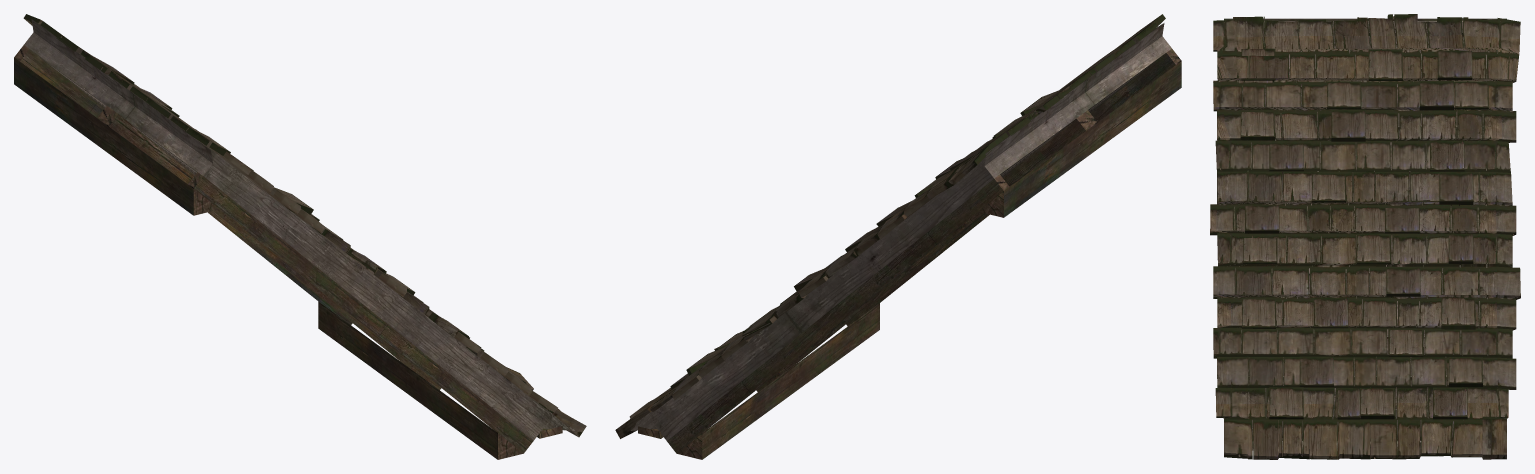
The picture shows the model from 3 angles, left to right: view 1: azimuth 30°, elevation 25°; view 2: azimuth 150°, elevation 25°; view 3: azimuth 270°, elevation 25°; orthographic projection. The views are drawn at different scales.
Parts seen in each view (by area): view 1: SM_BB_T1_Roof_Large_Diagonal_LOD0; view 2: SM_BB_T1_Roof_Large_Diagonal_LOD0; view 3: SM_BB_T1_Roof_Large_Diagonal_LOD0.
Boxes of the visible parts, x1,y1,x2,y2 form: SM_BB_T1_Roof_Large_Diagonal_LOD0: (14,14,586,459); SM_BB_T1_Roof_Large_Diagonal_LOD0: (615,14,1181,459); SM_BB_T1_Roof_Large_Diagonal_LOD0: (1210,14,1520,459).
Bounding box in the file's own units: 3.85 × 3.56 × 3.3.
3 materials, 3 textured.
